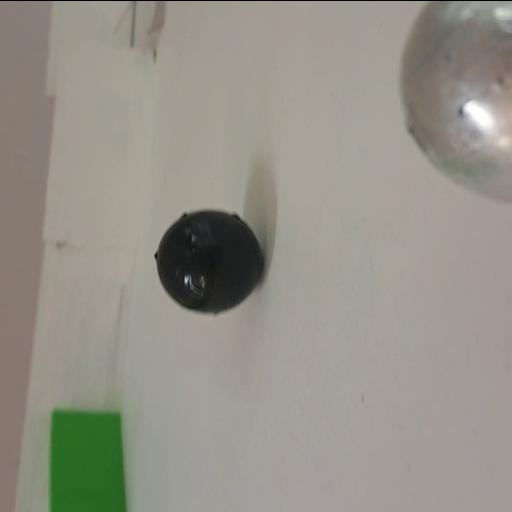alive: (400, 0, 512, 206)
dead: (152, 206, 264, 316)
